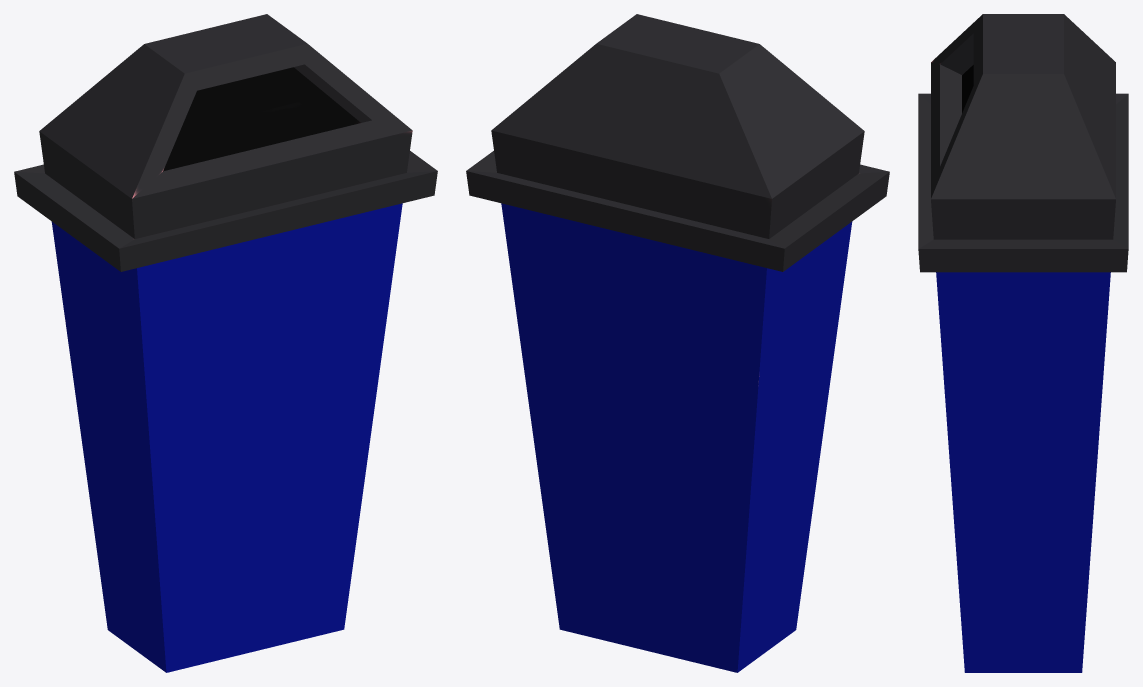
The model's file is basura.fbx.
3 renders of one model, left to right at view 1: azimuth 30°, elevation 25°; view 2: azimuth 150°, elevation 25°; view 3: azimuth 270°, elevation 25°, orthographic.
Parts seen in each view (by area): view 1: Cube; view 2: Cube; view 3: Cube.
Part boxes in pixels (x1,y1,x2,y2): Cube: (14,14,437,672); Cube: (466,14,889,672); Cube: (918,14,1128,672).
Size of the model in its own units: 397 by 698 by 227.
1 material, 1 textured.
